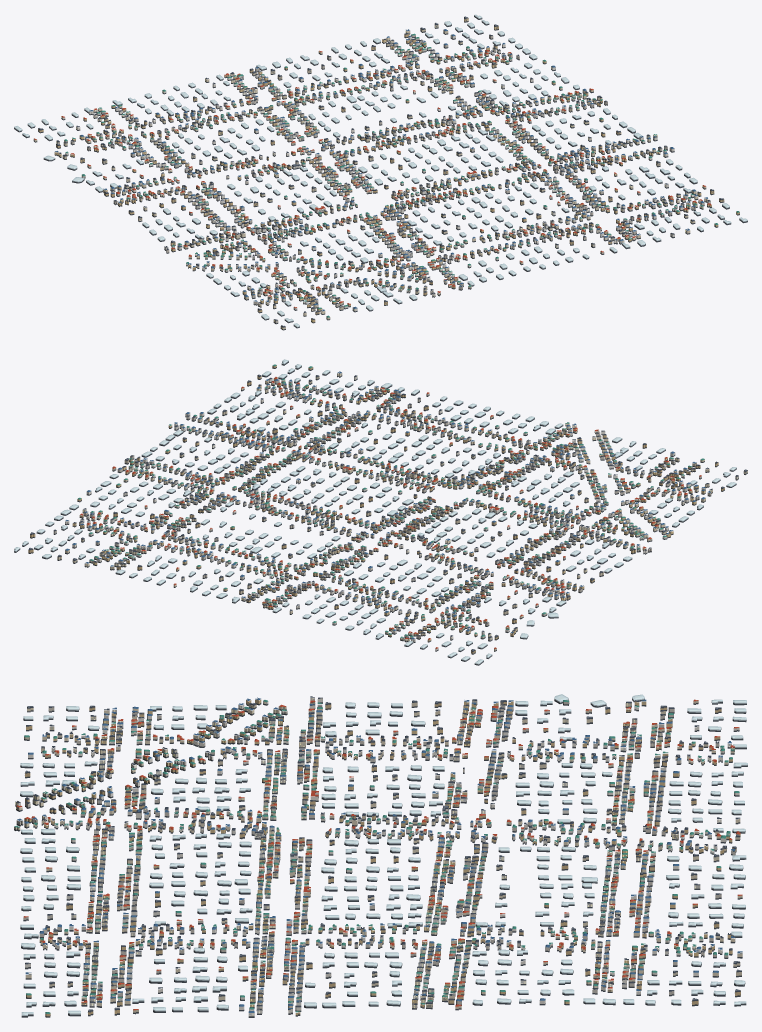
The model's file is osm_buildings_T_E03_N00.glb.
3 renders of one model, top to bottom at view 1: azimuth 30°, elevation 25°; view 2: azimuth 150°, elevation 25°; view 3: azimuth 270°, elevation 25°, orthographic. The views are drawn at different scales.
Visible parts, largest first — view 1: OSM_T_E03_N00_foundation_p0, OSM_T_E03_N00_greenhouse_blend, OSM_T_E03_N00_wall_french_ochre, OSM_T_E03_N00_wall_cream_stucco, OSM_T_E03_N00_wall_pastel_sand, OSM_T_E03_N00_wall_warm_white, OSM_T_E03_N00_roof_mansard_slate, OSM_T_E03_N00_roof_alpine_blue, OSM_T_E03_N00_roof_mint_metal, OSM_T_E03_N00_roof_terracotta, OSM_T_E03_N00_roof_mansard_deck; view 2: OSM_T_E03_N00_foundation_p0, OSM_T_E03_N00_greenhouse_blend, OSM_T_E03_N00_wall_cream_stucco, OSM_T_E03_N00_wall_french_ochre, OSM_T_E03_N00_wall_pastel_sand, OSM_T_E03_N00_wall_warm_white, OSM_T_E03_N00_roof_mansard_slate, OSM_T_E03_N00_roof_alpine_blue, OSM_T_E03_N00_roof_mint_metal, OSM_T_E03_N00_roof_terracotta, OSM_T_E03_N00_roof_mansard_deck, OSM_T_E03_N00_foundation_p1; view 3: OSM_T_E03_N00_foundation_p0, OSM_T_E03_N00_greenhouse_blend, OSM_T_E03_N00_wall_cream_stucco, OSM_T_E03_N00_wall_french_ochre, OSM_T_E03_N00_roof_mansard_slate, OSM_T_E03_N00_wall_pastel_sand, OSM_T_E03_N00_wall_warm_white, OSM_T_E03_N00_roof_alpine_blue, OSM_T_E03_N00_roof_mint_metal, OSM_T_E03_N00_roof_terracotta, OSM_T_E03_N00_roof_mansard_deck, OSM_T_E03_N00_foundation_p1 (+4 smaller).
Part boxes in pixels (bbox=[...]): OSM_T_E03_N00_foundation_p0: bbox=[22, 29, 747, 330]; OSM_T_E03_N00_greenhouse_blend: bbox=[14, 14, 747, 327]; OSM_T_E03_N00_wall_french_ochre: bbox=[38, 18, 739, 322]; OSM_T_E03_N00_wall_cream_stucco: bbox=[33, 24, 708, 329]; OSM_T_E03_N00_wall_pastel_sand: bbox=[56, 35, 704, 323]; OSM_T_E03_N00_wall_warm_white: bbox=[61, 35, 710, 311]; OSM_T_E03_N00_roof_mansard_slate: bbox=[38, 17, 723, 327]; OSM_T_E03_N00_roof_alpine_blue: bbox=[55, 29, 707, 311]; OSM_T_E03_N00_roof_mint_metal: bbox=[64, 33, 739, 317]; OSM_T_E03_N00_roof_terracotta: bbox=[34, 49, 711, 308]; OSM_T_E03_N00_roof_mansard_deck: bbox=[39, 16, 723, 326]; OSM_T_E03_N00_foundation_p0: bbox=[30, 361, 747, 658]; OSM_T_E03_N00_greenhouse_blend: bbox=[14, 359, 736, 664]; OSM_T_E03_N00_wall_cream_stucco: bbox=[57, 373, 747, 650]; OSM_T_E03_N00_wall_french_ochre: bbox=[28, 365, 724, 653]; OSM_T_E03_N00_wall_pastel_sand: bbox=[53, 380, 738, 640]; OSM_T_E03_N00_wall_warm_white: bbox=[65, 376, 701, 650]; OSM_T_E03_N00_roof_mansard_slate: bbox=[28, 375, 747, 651]; OSM_T_E03_N00_roof_alpine_blue: bbox=[65, 371, 710, 638]; OSM_T_E03_N00_roof_mint_metal: bbox=[78, 364, 704, 638]; OSM_T_E03_N00_roof_terracotta: bbox=[80, 377, 701, 648]; OSM_T_E03_N00_roof_mansard_deck: bbox=[29, 374, 746, 650]; OSM_T_E03_N00_foundation_p1: bbox=[14, 543, 483, 665]; OSM_T_E03_N00_foundation_p0: bbox=[14, 699, 740, 1017]; OSM_T_E03_N00_greenhouse_blend: bbox=[20, 694, 747, 1015]; OSM_T_E03_N00_wall_cream_stucco: bbox=[14, 700, 742, 1012]; OSM_T_E03_N00_wall_french_ochre: bbox=[24, 699, 740, 1016]; OSM_T_E03_N00_roof_mansard_slate: bbox=[15, 696, 741, 1012]; OSM_T_E03_N00_wall_pastel_sand: bbox=[16, 697, 735, 1009]; OSM_T_E03_N00_wall_warm_white: bbox=[15, 698, 739, 1016]; OSM_T_E03_N00_roof_alpine_blue: bbox=[17, 697, 742, 1012]; OSM_T_E03_N00_roof_mint_metal: bbox=[14, 700, 739, 1013]; OSM_T_E03_N00_roof_terracotta: bbox=[16, 699, 742, 1010]; OSM_T_E03_N00_roof_mansard_deck: bbox=[25, 700, 741, 1011]; OSM_T_E03_N00_foundation_p1: bbox=[708, 703, 747, 1006].
Bounding box in the file's own units: 1958 × 63.07 × 1910.
